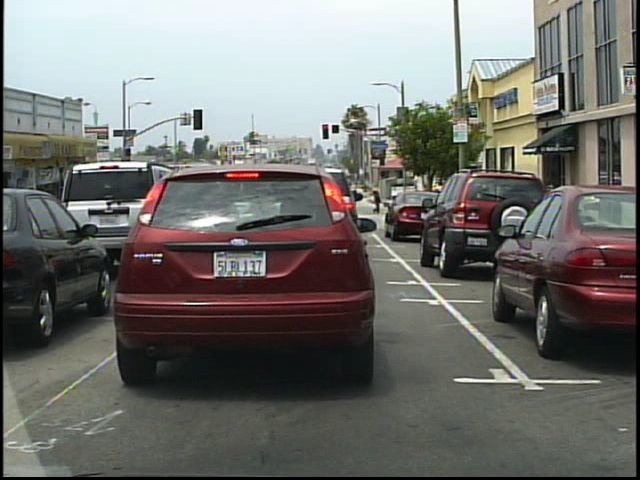person: (372, 186, 382, 218)
